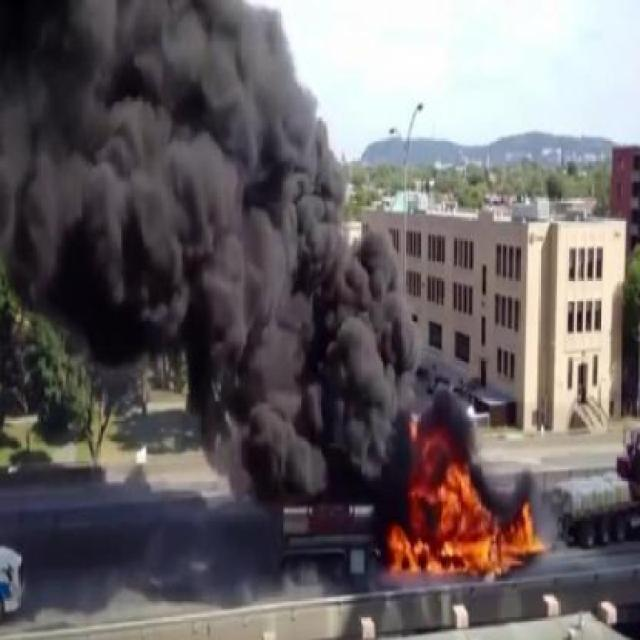Fire: (383, 442, 556, 584)
Smoke: (6, 6, 407, 512)
